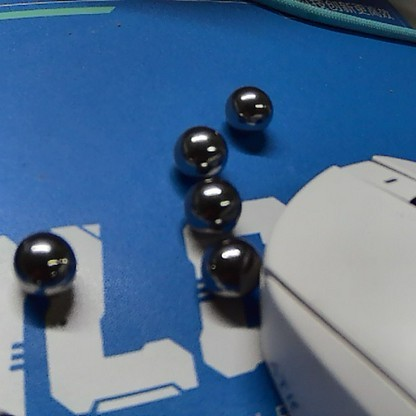ironball: (7, 222, 74, 309), (162, 113, 230, 178), (176, 178, 246, 237), (217, 76, 271, 141), (191, 243, 254, 293)
